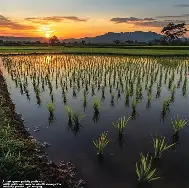crops: (2, 54, 188, 119), (0, 20, 187, 47), (69, 143, 132, 185), (0, 118, 25, 160), (11, 149, 39, 180), (64, 104, 86, 133), (94, 44, 189, 50), (0, 45, 58, 51)
